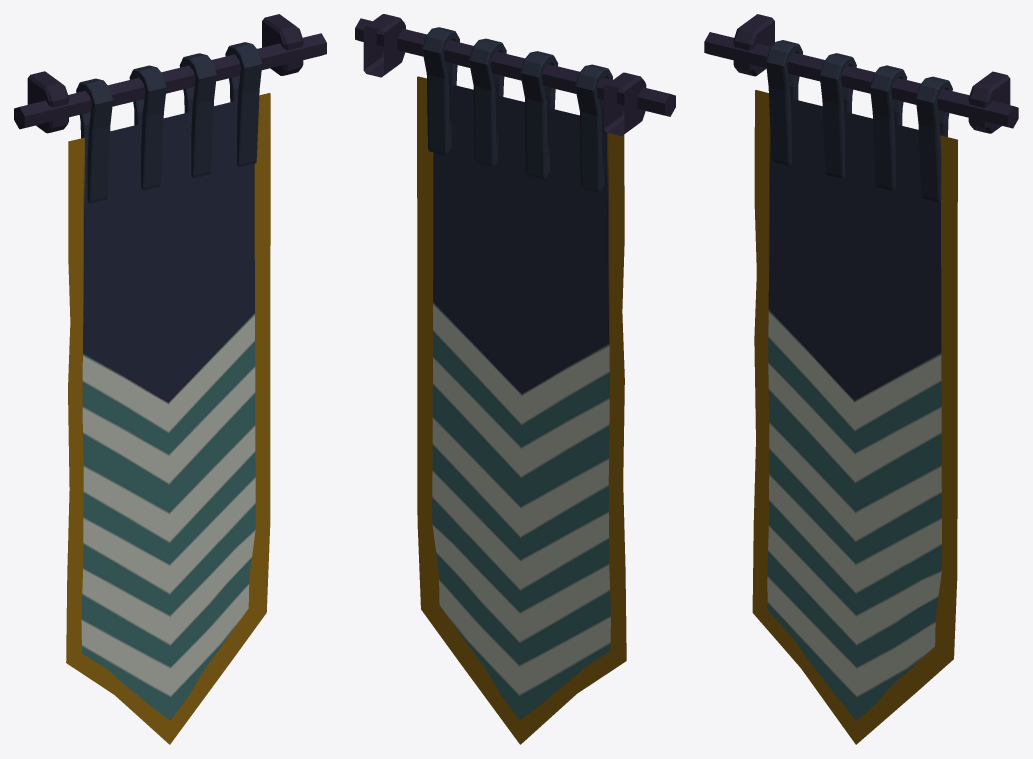
File: MCastle_Fixtures_07.FBX
3 views of the same model, side by side, from view 1: azimuth 30°, elevation 25°; view 2: azimuth 150°, elevation 25°; view 3: azimuth 330°, elevation 25° (orthographic). The views are drawn at different scales.
Visible parts, largest first — view 1: MCastle_Fixtures_07_Flag, MCastle_Fixtures_07_Iron_LOD0; view 2: MCastle_Fixtures_07_Flag, MCastle_Fixtures_07_Iron_LOD0; view 3: MCastle_Fixtures_07_Flag, MCastle_Fixtures_07_Iron_LOD0.
Part boxes in pixels (x1=…): MCastle_Fixtures_07_Flag: x1=66, y1=93, x2=270, y2=744; MCastle_Fixtures_07_Iron_LOD0: x1=14, y1=14, x2=326, y2=203; MCastle_Fixtures_07_Flag: x1=417, y1=76, x2=626, y2=744; MCastle_Fixtures_07_Iron_LOD0: x1=355, y1=14, x2=675, y2=192; MCastle_Fixtures_07_Flag: x1=752, y1=90, x2=957, y2=744; MCastle_Fixtures_07_Iron_LOD0: x1=704, y1=14, x2=1018, y2=202.
Size of what is drawn, in the model's own units: 1.68 by 3.63 by 0.2747.
